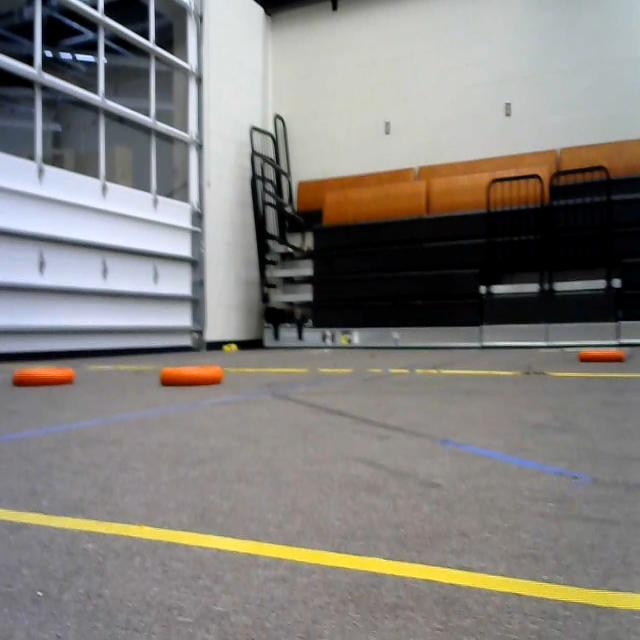note: (153, 361, 228, 392), (12, 363, 77, 395), (577, 343, 623, 370)
